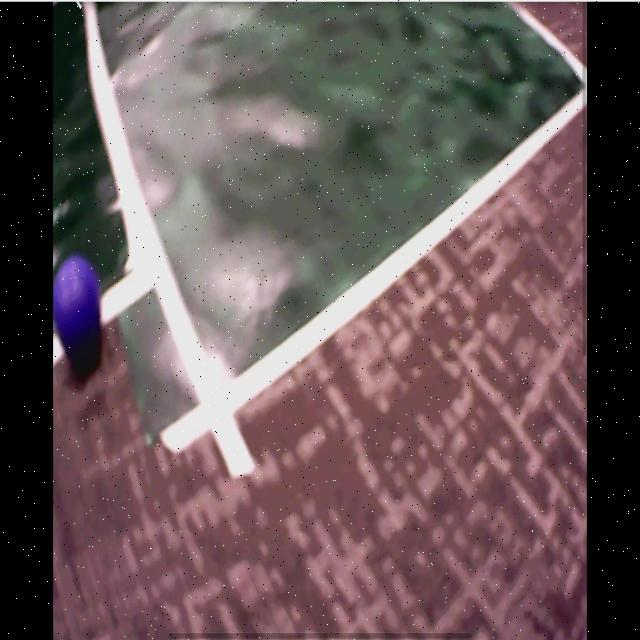ball: (54, 259, 101, 345)
